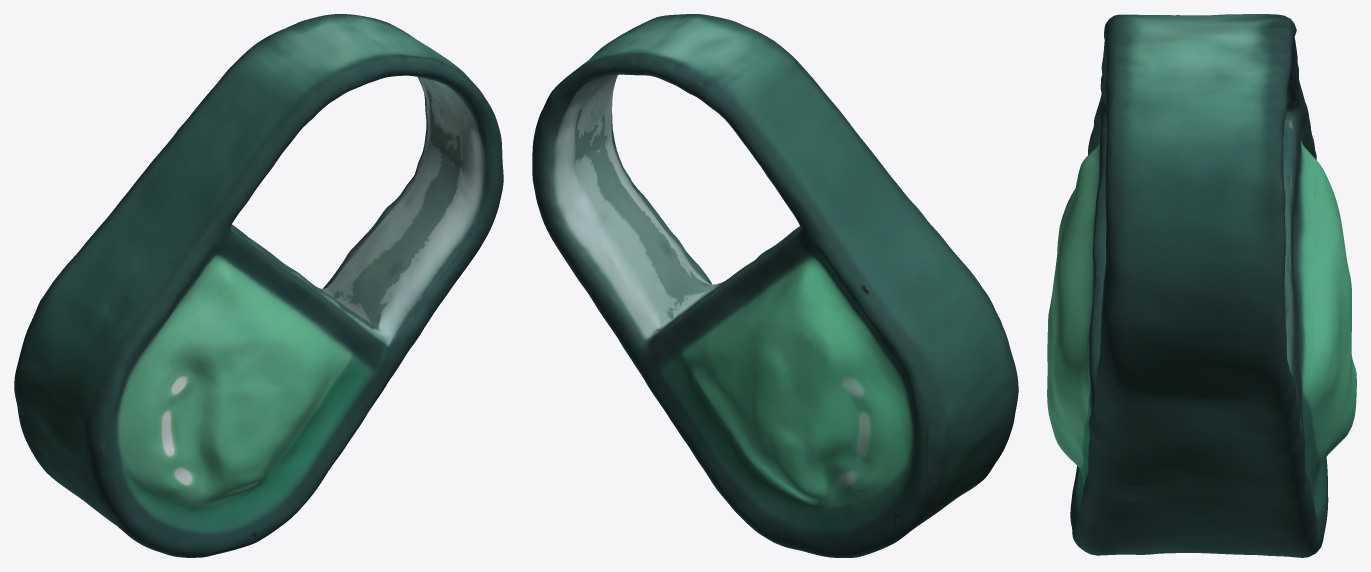
Rendered from pump.glb.
The picture shows the model from 3 angles, left to right: view 1: azimuth 30°, elevation 25°; view 2: azimuth 150°, elevation 25°; view 3: azimuth 270°, elevation 25°; orthographic projection. The views are drawn at different scales.
Bounding box in the file's own units: 1.19 × 1.2 × 0.5516.
Materials: 1 (1 with a texture image).
